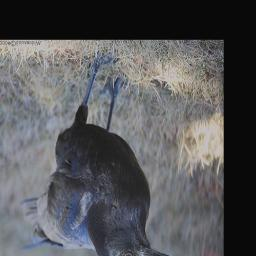Crow: (19, 53, 175, 256)
